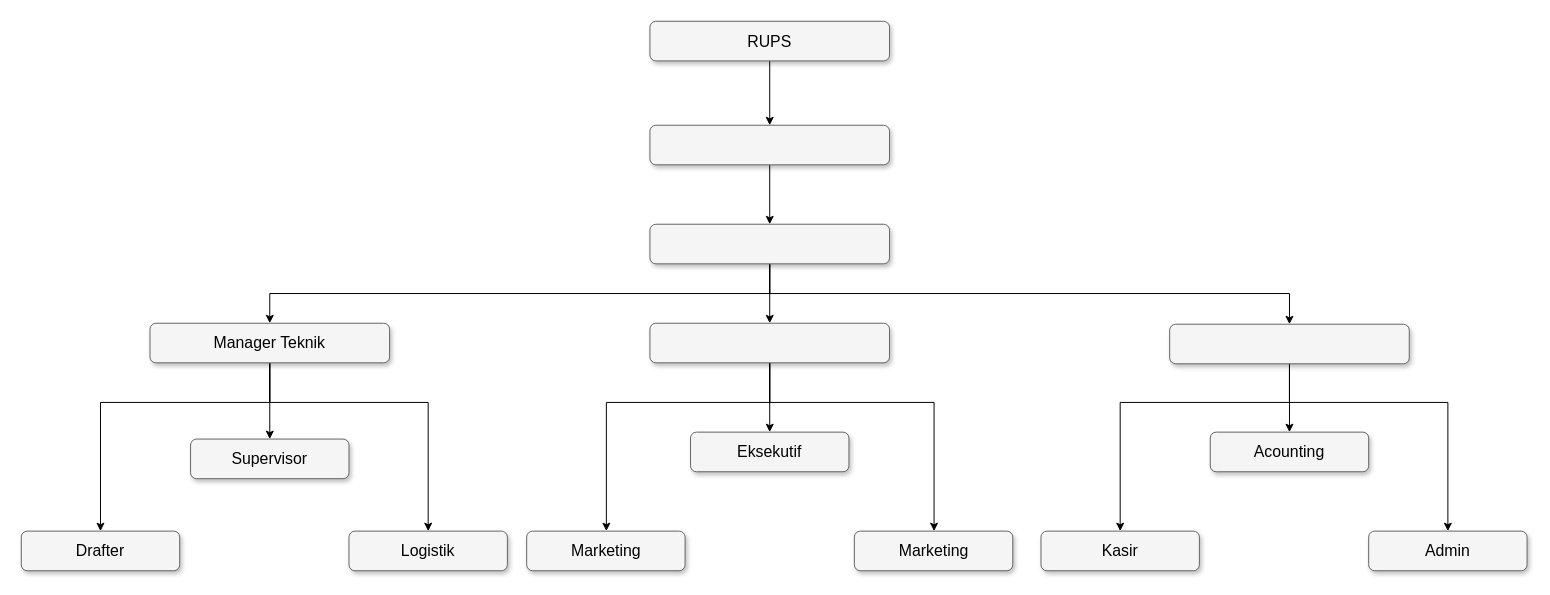
This 1550x595 diagram has some shape labels left out. Here are the shapes that lost their labels. From the top down, the centre of each, then its label:
At pixel 770 146: "Komisaris".
At pixel 770 245: "Direktur".
At pixel 770 344: "Manager Marketing".
At pixel 1290 345: "Manager Keuangan".
